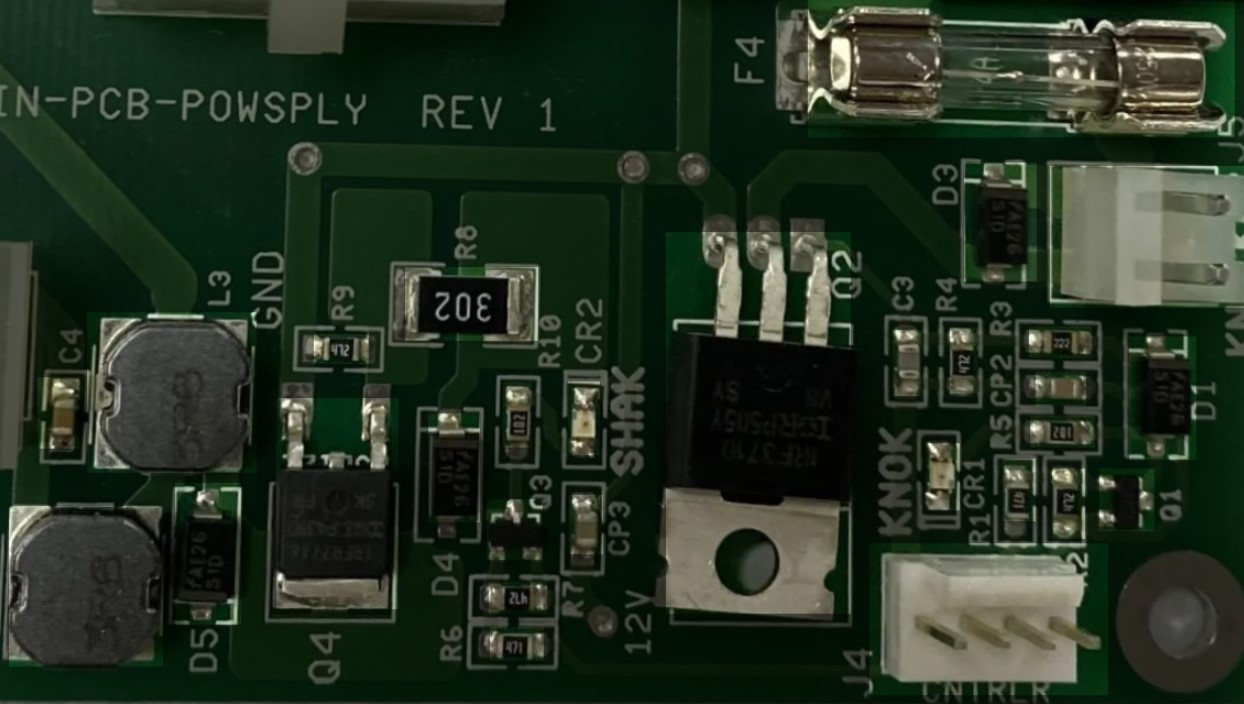Induktor: (10, 504, 161, 667), (99, 316, 248, 470)
